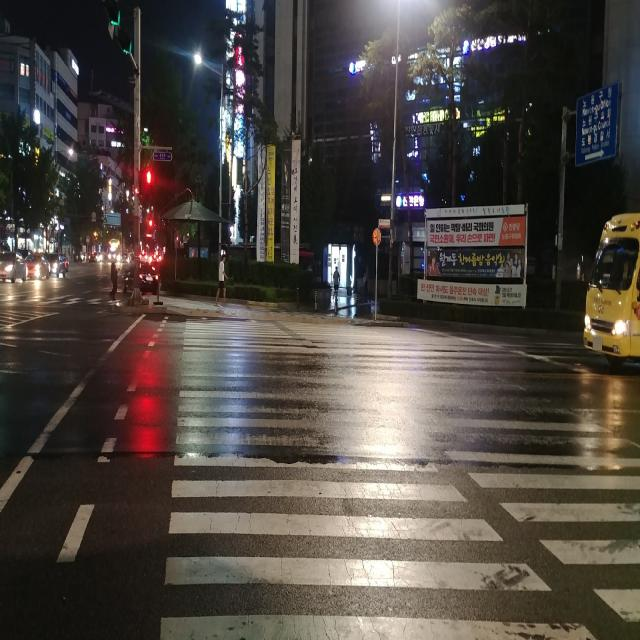빨간불: (141, 167, 155, 204)
횡단보도: (160, 316, 640, 640)
